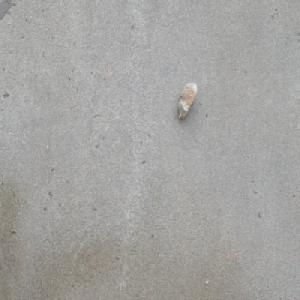Rock: (177, 81, 197, 121)
